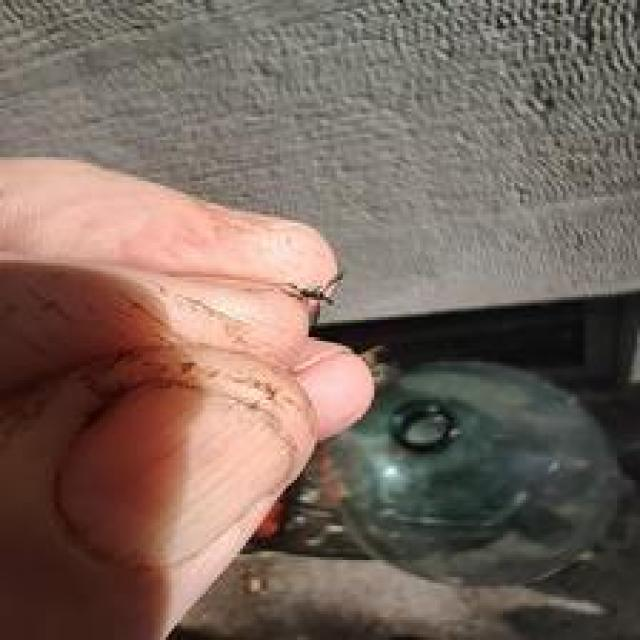Aedes albopictus: (250, 343, 639, 591)
